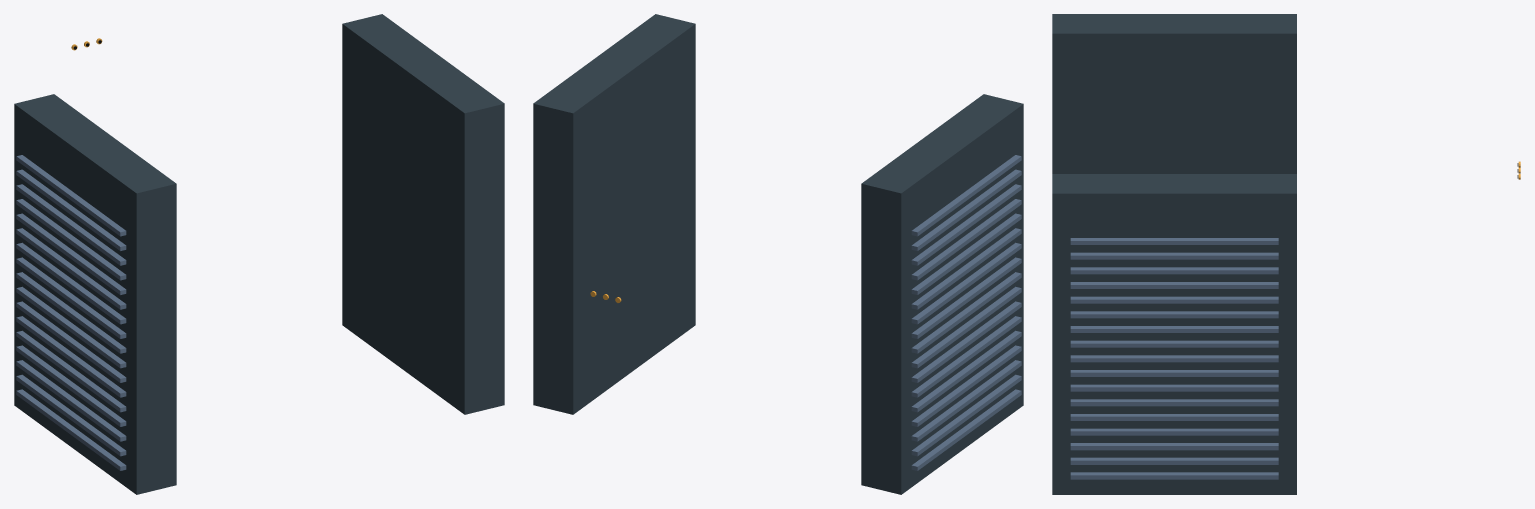
The model's file is 06_L90_PropulsionBayThermalContainment.fbx.
3 views of the same model, side by side, from view 1: azimuth 30°, elevation 25°; view 2: azimuth 150°, elevation 25°; view 3: azimuth 270°, elevation 25° (orthographic).
Parts seen in each view (by area): view 1: L90_PropulsionBayThermalContainment; view 2: L90_PropulsionBayThermalContainment; view 3: L90_PropulsionBayThermalContainment.
Boxes of the visible parts, box(x1,y1,x2,y2) form: L90_PropulsionBayThermalContainment: box(14, 14, 504, 494); L90_PropulsionBayThermalContainment: box(533, 14, 1023, 494); L90_PropulsionBayThermalContainment: box(1052, 14, 1296, 494).
Size of the model in its own units: 955 by 720 by 1014.
